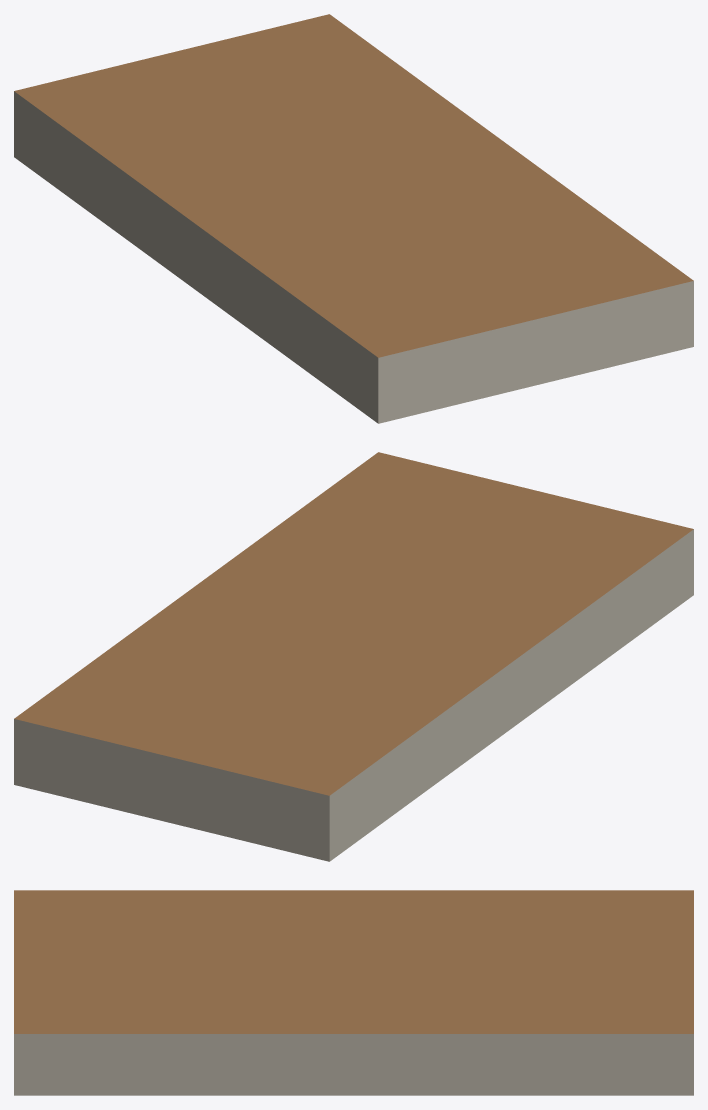
The model's file is SM_Kit_Floor_Half.glb.
3 views of the same model, one above another, from view 1: azimuth 30°, elevation 25°; view 2: azimuth 150°, elevation 25°; view 3: azimuth 270°, elevation 25° (orthographic). The views are drawn at different scales.
Visible parts, largest first — view 1: SM_Kit_Floor_Half; view 2: SM_Kit_Floor_Half; view 3: SM_Kit_Floor_Half.
Part boxes in pixels (<box>): SM_Kit_Floor_Half: <box>14,14,693,423</box>; SM_Kit_Floor_Half: <box>14,452,693,861</box>; SM_Kit_Floor_Half: <box>14,890,693,1095</box>.
Size of the model in its own units: 0.5 by 0.1 by 1.
